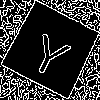Y: (26, 24, 77, 81)
